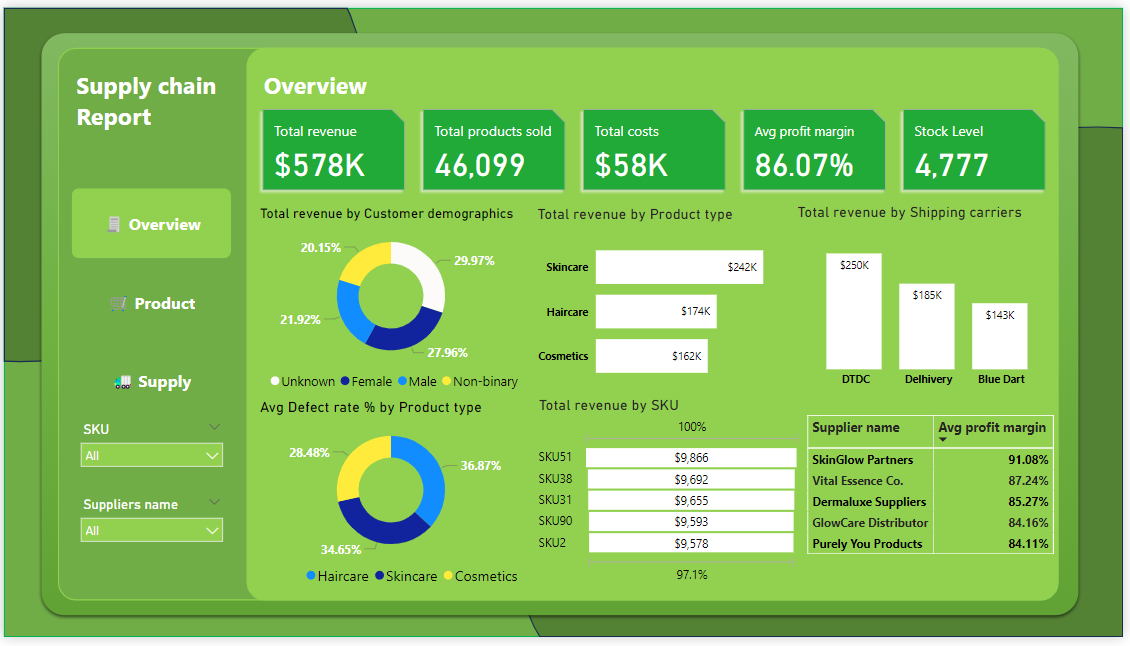

What the dashboard file says about the page in this screenshot:
{"tool":"powerbi","page":{"name":"🧾 Overview","canvas":[1280,720],"ordinal":0},"visuals":[{"type":"cardVisual","fields":{"Data":["Measures_required.Total revenue","Measures_required.Total products sold","Measures_required.Total costs","Measures_required.Avg profit margin %","Measures_required.Stock Level"]},"box":[285.7,105.7,921.4,115.7],"z":0},{"type":"donutChart","fields":{"Y":["Measures_required.Total revenue"],"Category":["supply_chain_data.Customer demographics"]},"box":[288.6,227.1,310,220],"z":1000},{"type":"donutChart","fields":{"Y":["Measures_required.Avg Defect rate %"],"Category":["supply_chain_data.Product type"]},"box":[288.6,447.1,310,222.9],"z":2000},{"type":"clusteredBarChart","fields":{"Y":["Measures_required.Total revenue"],"Category":["supply_chain_data.Product type"]},"box":[605.7,225.7,310,220],"z":3000},{"type":"clusteredColumnChart","fields":{"Y":["Measures_required.Total revenue"],"Category":["supply_chain_data.Shipping carriers"]},"box":[902.9,224.3,310,220],"z":4000},{"type":"funnel","fields":{"Y":["Measures_required.Total revenue"],"Category":["supply_chain_data.SKU"]},"box":[607.1,444.3,310,220],"z":5000},{"type":"tableEx","fields":{"Values":["supply_chain_data.Supplier name","Measures_required.Avg profit margin"]},"box":[912.9,461.4,294.3,220],"z":6000},{"type":"textbox","box":[292.9,65.7,304.3,57.1],"z":7000},{"type":"pageNavigator","box":[78.6,207.1,182.9,261.4],"z":7001,"group":"g1"},{"type":"slicer","fields":{"Values":["supply_chain_data.SKU"]},"box":[78.6,468.6,182.9,67.1],"z":7002,"group":"g1"},{"type":"slicer","fields":{"Values":["supply_chain_data.Supplier name"]},"box":[78.6,554.3,182.9,67.1],"z":7003,"group":"g1"},{"type":"textbox","box":[78.6,65.7,182.9,122.9],"z":7004,"group":"g1"},{"type":"group","id":"g1","title":"Group 1","box":[78.6,65.7,182.9,555.7],"z":7005}]}

Visuals, with their boxes in screenshot pixels (x1, y1, x2, y2), scaled from the page's 1280x720 canvas onto the 1130x646 screenshot:
cardVisual - Measures_required.Total revenue x Measures_required.Total products sold: 252, 95, 1066, 199
donutChart - Measures_required.Total revenue x supply_chain_data.Customer demographics: 255, 204, 528, 401
donutChart - Measures_required.Avg Defect rate % x supply_chain_data.Product type: 255, 401, 528, 601
clusteredBarChart - Measures_required.Total revenue x supply_chain_data.Product type: 535, 203, 808, 400
clusteredColumnChart - Measures_required.Total revenue x supply_chain_data.Shipping carriers: 797, 201, 1071, 399
funnel - Measures_required.Total revenue x supply_chain_data.SKU: 536, 399, 810, 596
tableEx - supply_chain_data.Supplier name x Measures_required.Avg profit margin: 806, 414, 1066, 611
textbox: 259, 59, 527, 110
pageNavigator: 69, 186, 231, 420
slicer - supply_chain_data.SKU: 69, 420, 231, 481
slicer - supply_chain_data.Supplier name: 69, 497, 231, 558
textbox: 69, 59, 231, 169
"Group 1" group: 69, 59, 231, 558
